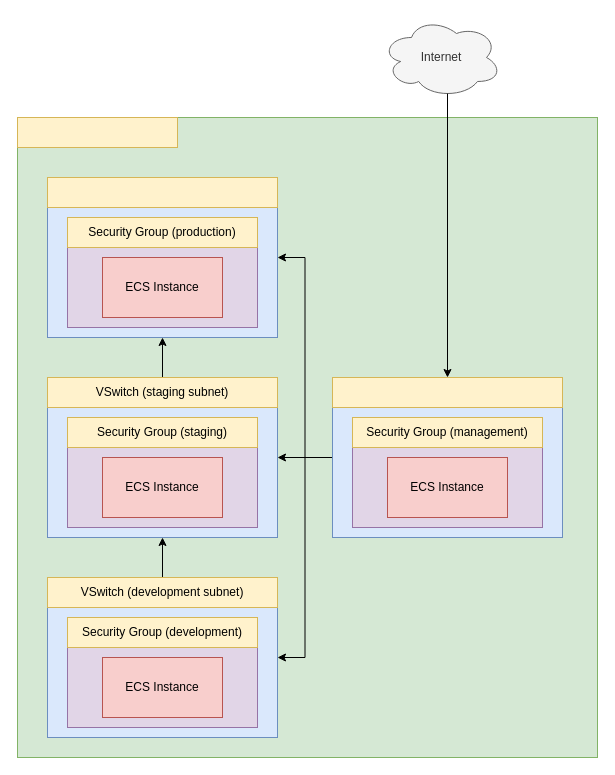
This 615x775 diagram has some shape labels left out. Here are the shapes that lost their labels. From the top down, the centre of each, then its label:
the point at 97,132: VPC Group
the point at 162,192: VSwitch (production subnet)
the point at 447,392: VSwitch (management subnet)
